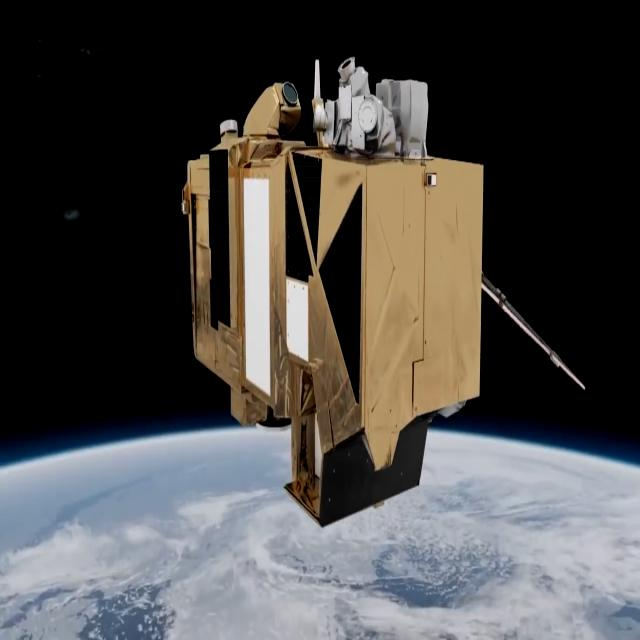satellite: (178, 50, 602, 544)
